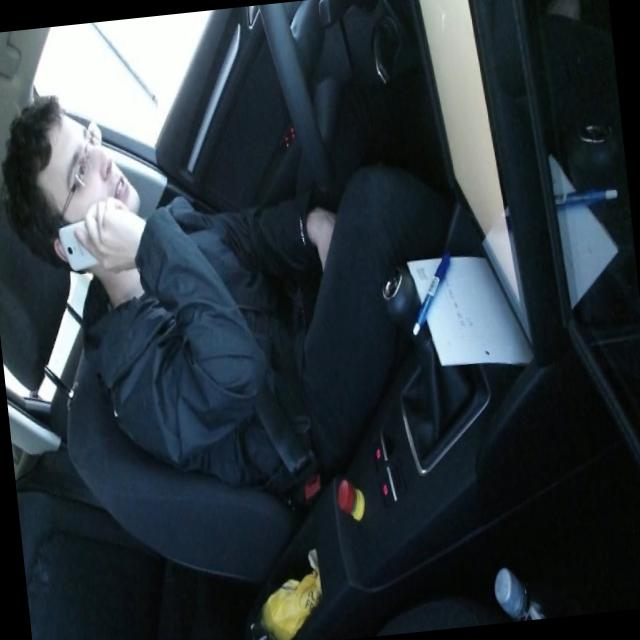pen: (402, 249, 458, 336)
